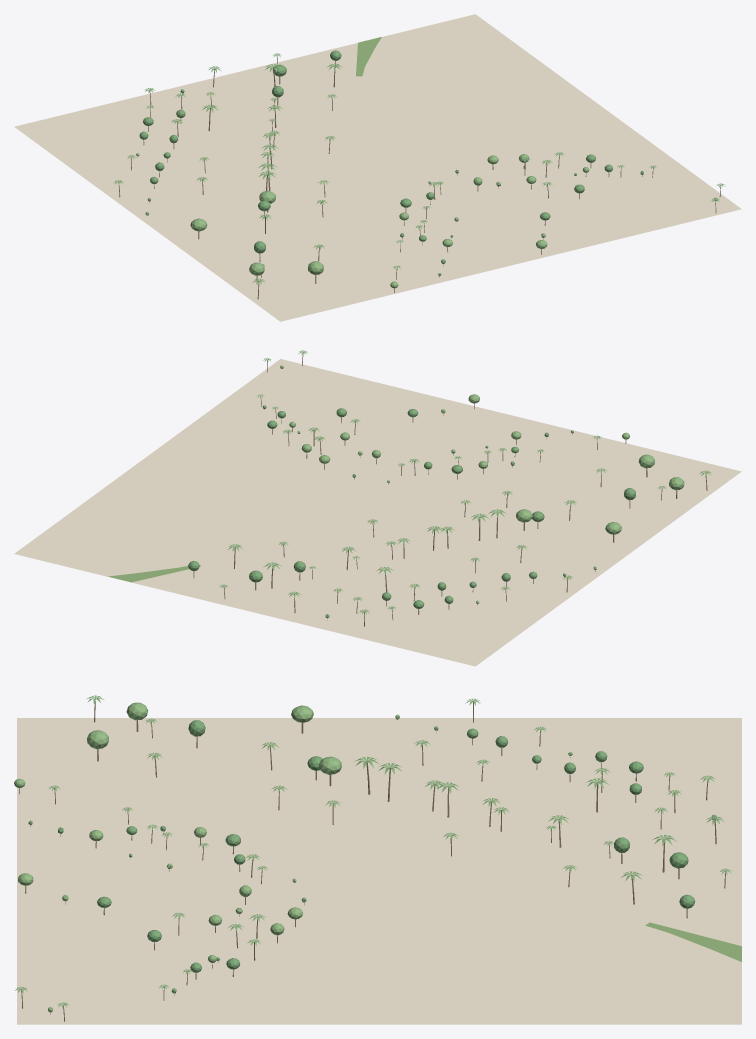
Rendered from nature_-4_-1.glb.
3 views of the same model, one above another, from view 1: azimuth 30°, elevation 25°; view 2: azimuth 150°, elevation 25°; view 3: azimuth 270°, elevation 25° (orthographic). The views are drawn at different scales.
Visible parts, largest first — view 1: ground, foliage_a, palm_leaf, foliage_b, trunk, grass; view 2: ground, foliage_a, palm_leaf, foliage_b, trunk; view 3: ground, foliage_a, palm_leaf, foliage_b, trunk, grass.
Boxes of the visible parts, x1,y1,x2,y2 form: ground: (14, 14, 741, 321); foliage_a: (139, 50, 643, 276); palm_leaf: (113, 53, 725, 284); foliage_b: (136, 153, 716, 288); trunk: (119, 57, 720, 299); grass: (356, 37, 381, 76); ground: (14, 359, 741, 666); foliage_a: (188, 405, 635, 618); palm_leaf: (220, 350, 712, 614); foliage_b: (280, 365, 684, 603); trunk: (193, 352, 707, 626); ground: (17, 718, 741, 1024); foliage_a: (28, 720, 716, 993); palm_leaf: (15, 695, 732, 1008); foliage_b: (14, 702, 572, 1012); trunk: (19, 701, 725, 1021); grass: (645, 922, 741, 961).
Bounding box in the file's own units: 250 × 13.38 × 251.
